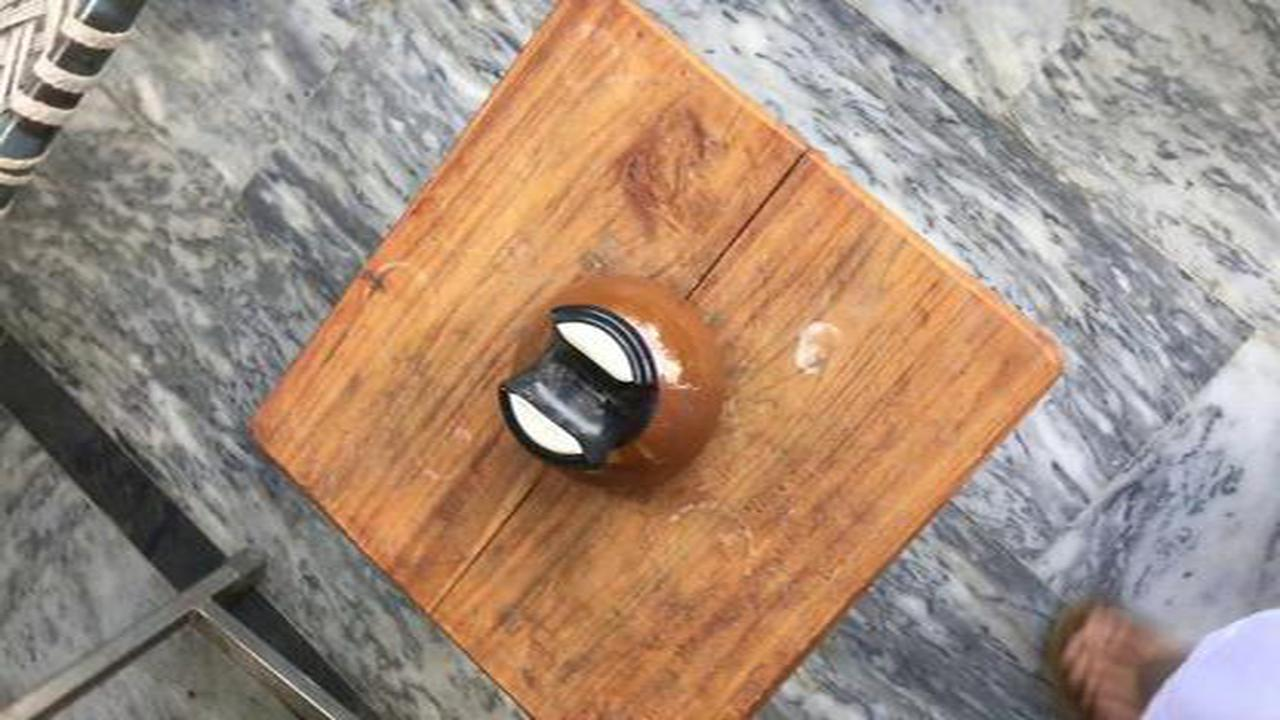insulator_pin: (471, 269, 757, 499)
